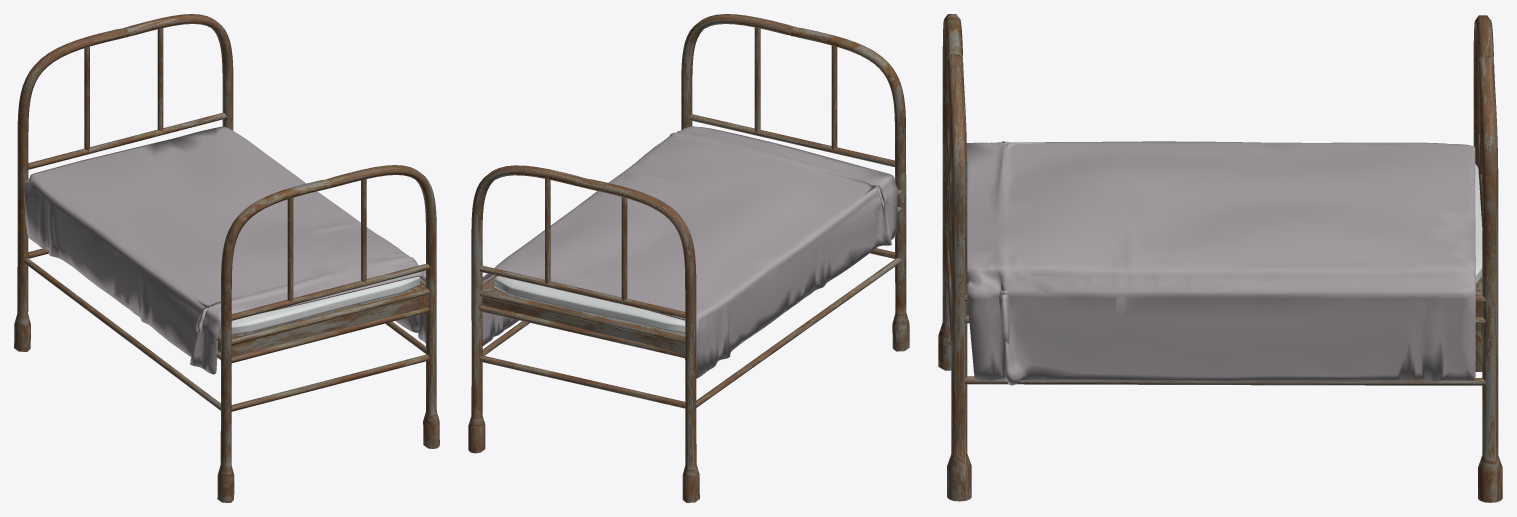
File: bed_abondoned.fbx
3 renders of one model, left to right at view 1: azimuth 30°, elevation 25°; view 2: azimuth 150°, elevation 25°; view 3: azimuth 270°, elevation 25°, orthographic. The views are drawn at different scales.
Parts seen in each view (by area): view 1: BedSheet, Body Bed, bed; view 2: BedSheet, Body Bed, bed; view 3: BedSheet, Body Bed, bed.
Part boxes in pixels (x1,y1,x2,y2): BedSheet: (24,126,425,374); Body Bed: (14,14,439,502); bed: (219,276,419,334); BedSheet: (482,126,898,378); Body Bed: (468,14,909,502); bed: (494,276,685,333); BedSheet: (966,141,1475,385); Body Bed: (938,14,1502,502); bed: (967,164,1482,285).
Size of the model in its own units: 600 by 707 by 954.
Materials: 3 (1 with a texture image).
